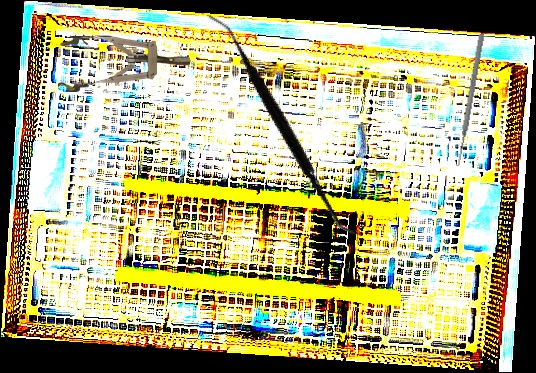Pusher: (454, 33, 486, 167)
Spatula Surgical: (148, 12, 422, 239)
Speculum: (57, 33, 191, 93)
